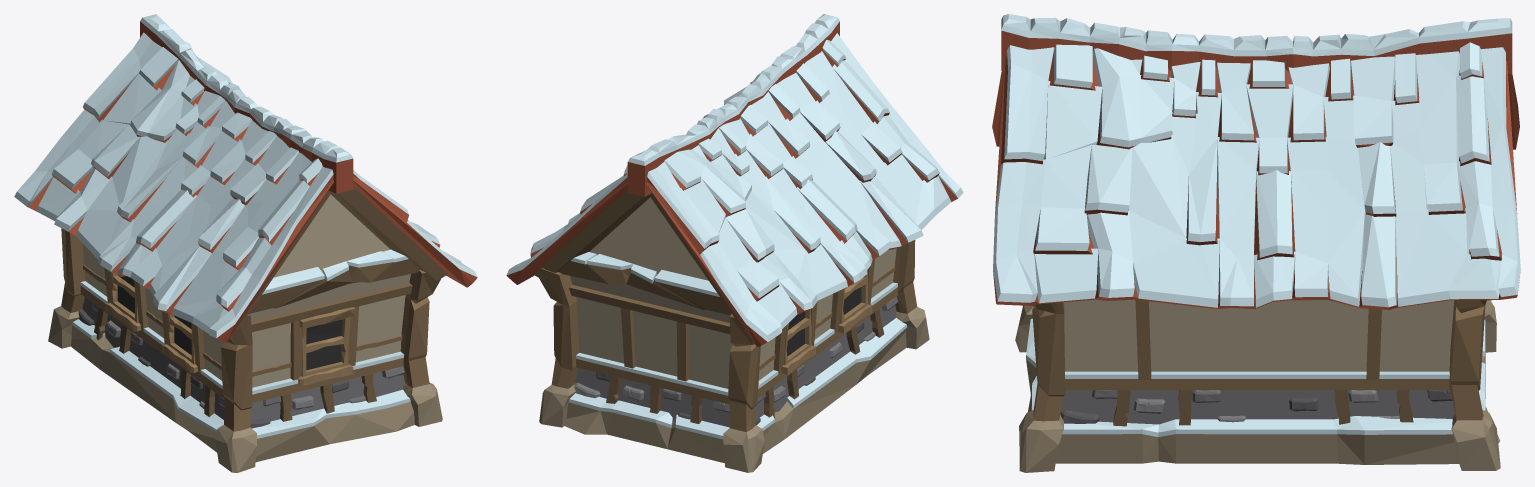
The model's file is SM_Bld_House_Room_03_Snow.gltf.
3 renders of one model, left to right at view 1: azimuth 30°, elevation 25°; view 2: azimuth 150°, elevation 25°; view 3: azimuth 270°, elevation 25°, orthographic. The views are drawn at different scales.
Parts seen in each view (by area): view 1: SM_Bld_House_Room_03_Snow; view 2: SM_Bld_House_Room_03_Snow; view 3: SM_Bld_House_Room_03_Snow.
Boxes of the visible parts, <box> form: SM_Bld_House_Room_03_Snow: <box>14,14,477,472</box>; SM_Bld_House_Room_03_Snow: <box>506,14,963,472</box>; SM_Bld_House_Room_03_Snow: <box>992,14,1520,472</box>.
Size of the model in its own units: 5.04 by 5.16 by 6.38.
1 material, 1 textured.
